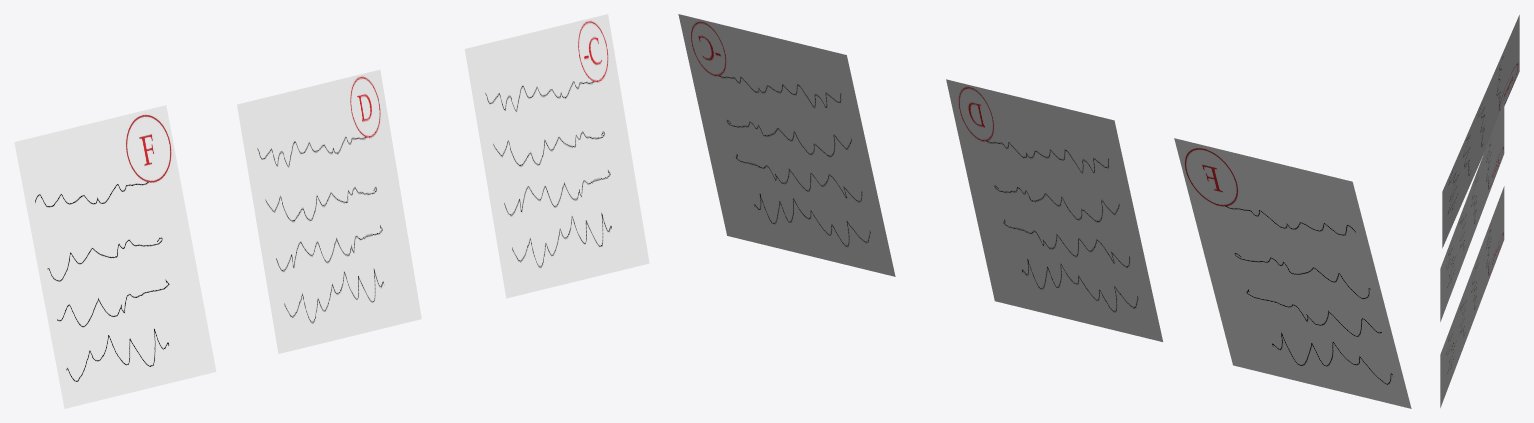
Rendered from Graded assignments.fbx.
3 renders of one model, left to right at view 1: azimuth 30°, elevation 25°; view 2: azimuth 150°, elevation 25°; view 3: azimuth 270°, elevation 25°, orthographic. The views are drawn at different scales.
Parts seen in each view (by area): view 1: pPlane1, pPlane5, pPlane4; view 2: pPlane1, pPlane4, pPlane5; view 3: pPlane1, pPlane4, pPlane5.
Part boxes in pixels (x1,y1,x2,y2): pPlane1: (14, 105, 216, 408); pPlane5: (464, 14, 649, 298); pPlane4: (237, 69, 421, 353); pPlane1: (1174, 138, 1411, 408); pPlane4: (946, 79, 1162, 341); pPlane5: (678, 14, 895, 276); pPlane1: (1442, 15, 1519, 248); pPlane4: (1440, 100, 1504, 321); pPlane5: (1440, 186, 1504, 407).
Bounding box in the file's own units: 605 × 228 × 92.42.
Materials: 3 (3 with a texture image).
